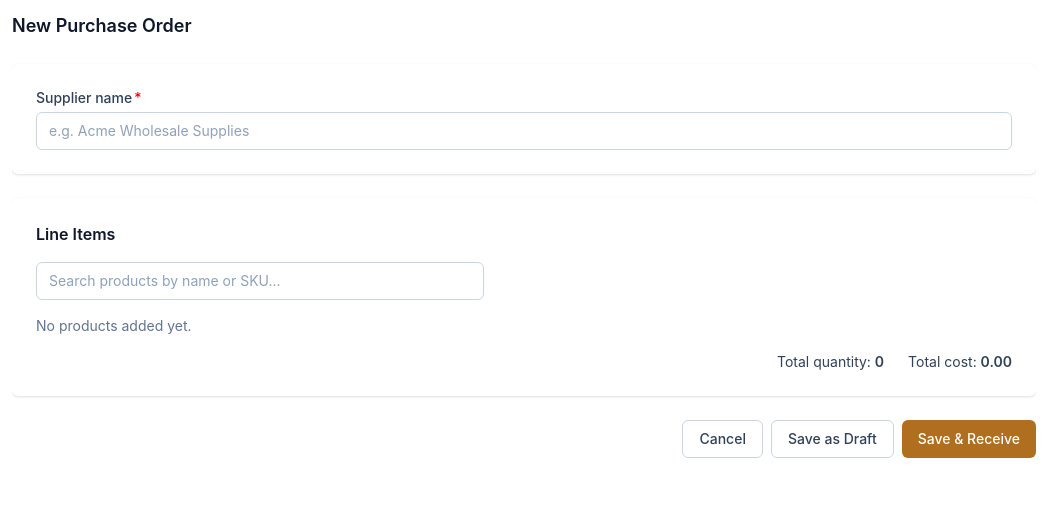
Test: PurchaseOrderBuilderPage › requires a supplier name and at least one product before saving
This screenshot has width=1048, height=522.
Click the button "Save as Draft": [832, 439] box [771, 420, 894, 458]
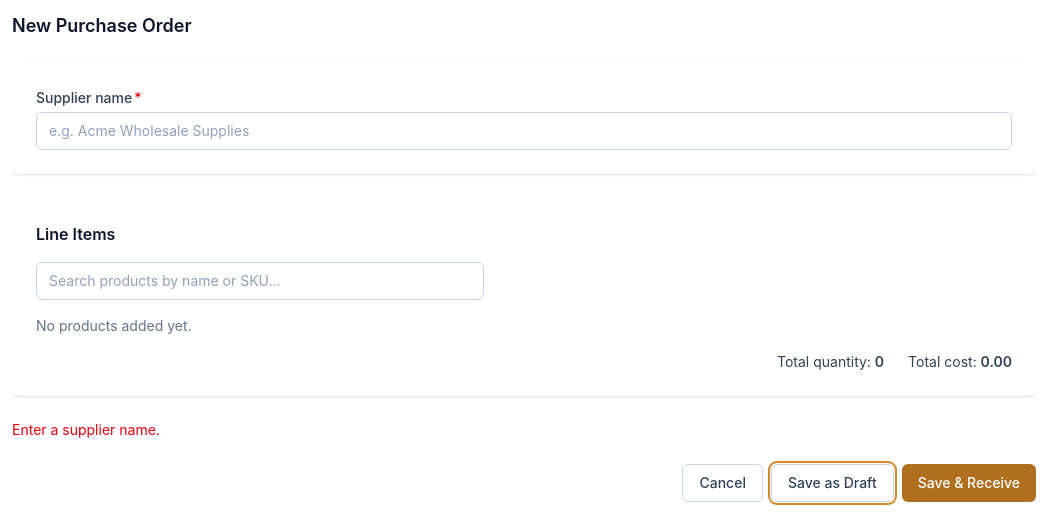
Now the message reads "Enter a supplier name.", box [12, 421, 160, 438]
